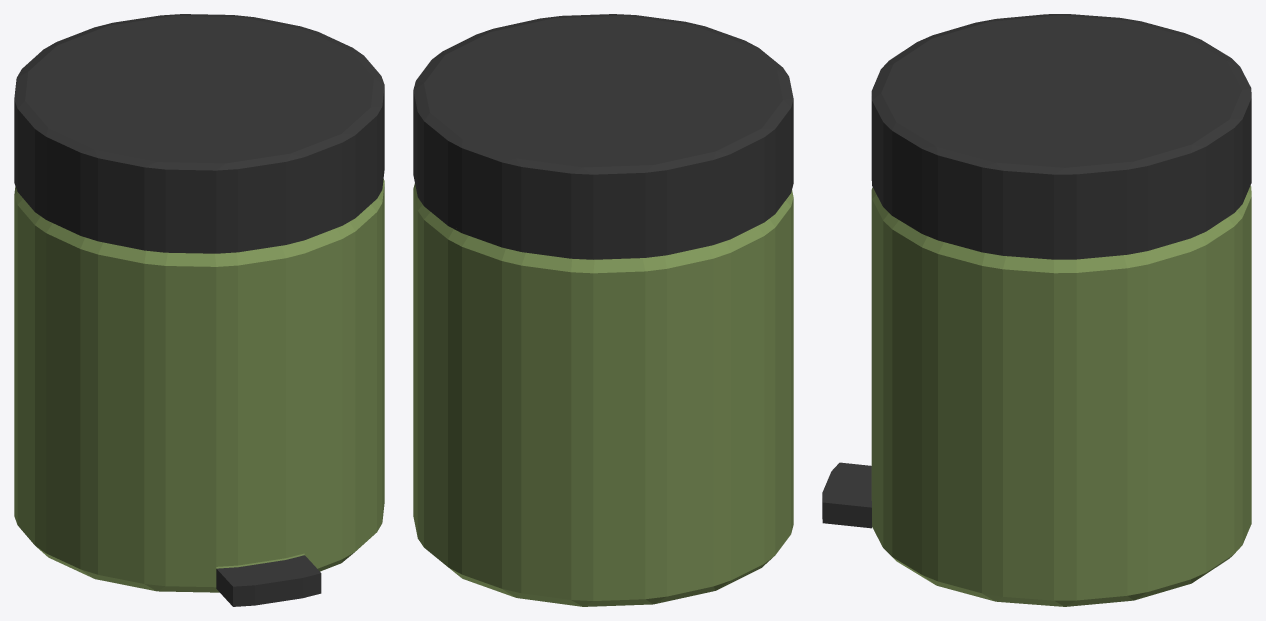
Rendered from bin_singlebedroom.fbx.
The picture shows the model from 3 angles, left to right: view 1: azimuth 30°, elevation 25°; view 2: azimuth 150°, elevation 25°; view 3: azimuth 270°, elevation 25°; orthographic projection. The views are drawn at different scales.
Parts seen in each view (by area): view 1: bin_singlebedroom, Cylinder.013; view 2: bin_singlebedroom, Cylinder.013; view 3: bin_singlebedroom, Cylinder.013.
Boxes of the visible parts, bbox=[...] form: bin_singlebedroom: bbox=[14, 179, 384, 592]; Cylinder.013: bbox=[14, 14, 384, 606]; bin_singlebedroom: bbox=[413, 183, 793, 606]; Cylinder.013: bbox=[413, 14, 793, 259]; bin_singlebedroom: bbox=[871, 185, 1251, 606]; Cylinder.013: bbox=[822, 14, 1251, 528].
Bounding box in the file's own units: 41.13 × 52.43 × 46.48.
